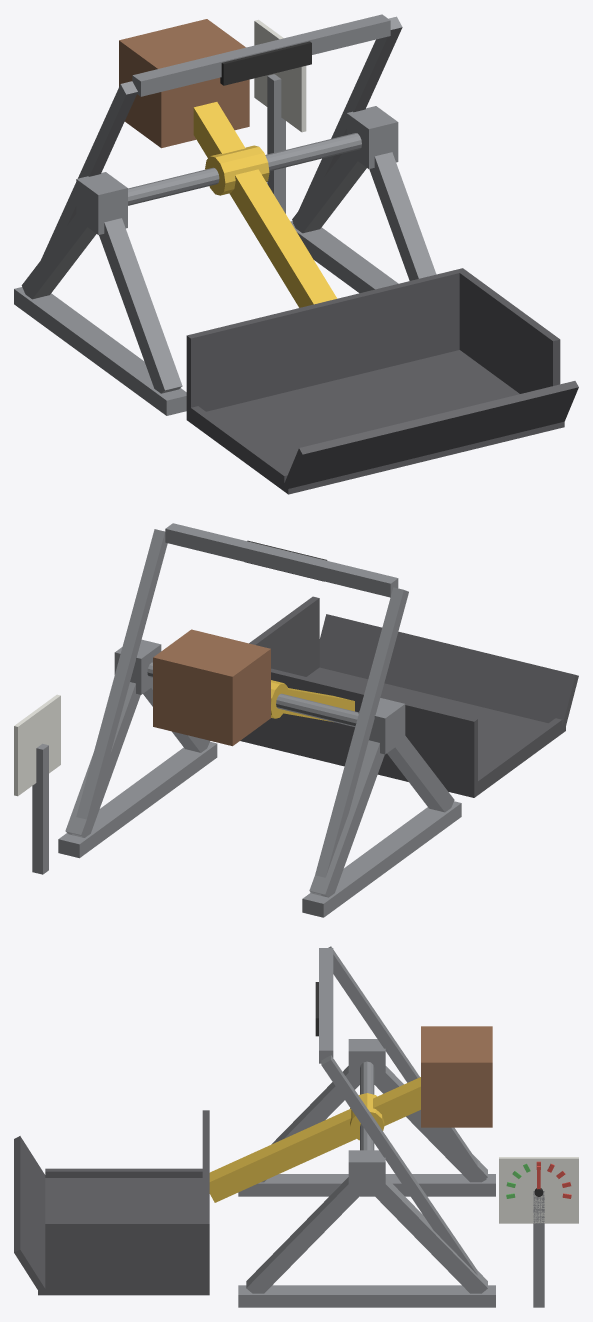
Rendered from catapult.glb.
3 views of the same model, one above another, from view 1: azimuth 30°, elevation 25°; view 2: azimuth 150°, elevation 25°; view 3: azimuth 270°, elevation 25° (orthographic). The views are drawn at different scales.
Visible parts, largest first — view 1: Arm, Frame; view 2: Arm, Frame; view 3: Arm, Frame.
Boxes of the visible parts, x1,y1,x2,y2 form: Arm: [119, 19, 578, 494]; Frame: [14, 14, 436, 415]; Arm: [153, 596, 578, 797]; Frame: [14, 523, 461, 917]; Arm: [14, 1026, 492, 1295]; Frame: [238, 946, 578, 1307].
Size of the model in its own units: 2.06 by 1.91 by 3.95.
